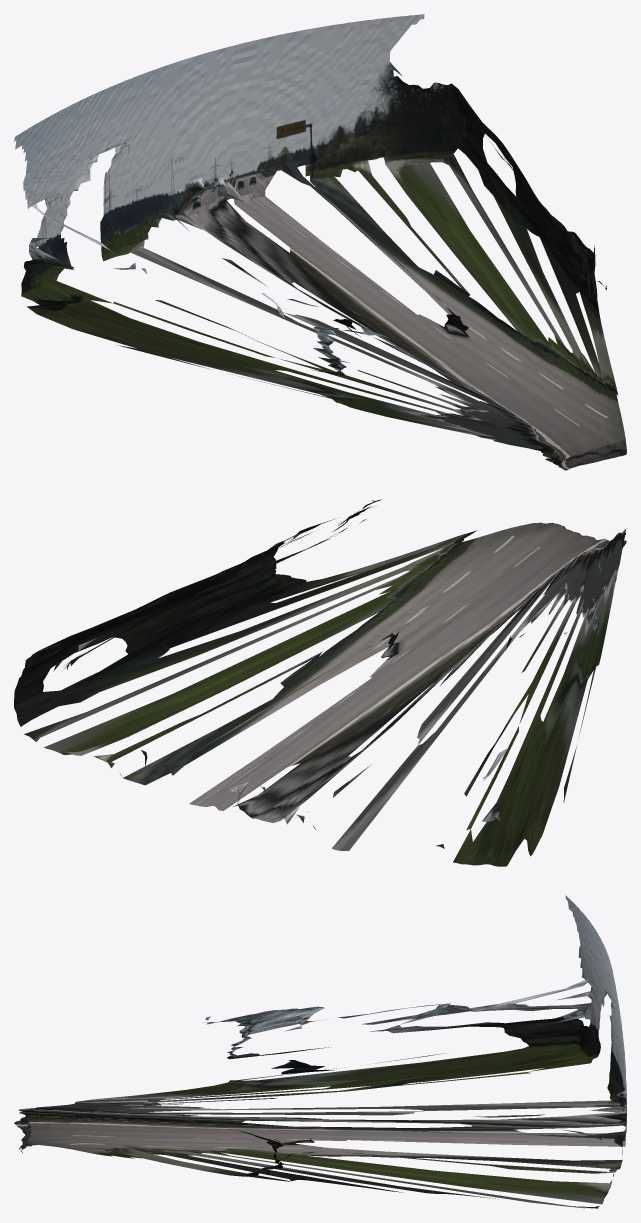
3 renders of one model, top to bottom at view 1: azimuth 30°, elevation 25°; view 2: azimuth 150°, elevation 25°; view 3: azimuth 270°, elevation 25°, orthographic. The views are drawn at different scales.
Parts seen in each view (by area): view 1: defaultobject; view 2: defaultobject; view 3: defaultobject.
Part boxes in pixels (box(x1,y1,x2,y2)): defaultobject: box(14, 14, 626, 470); defaultobject: box(14, 499, 626, 866); defaultobject: box(14, 895, 626, 1208).
Size of the model in its own units: 33.97 by 12.59 by 44.75.
Materials: 1 (1 with a texture image).
